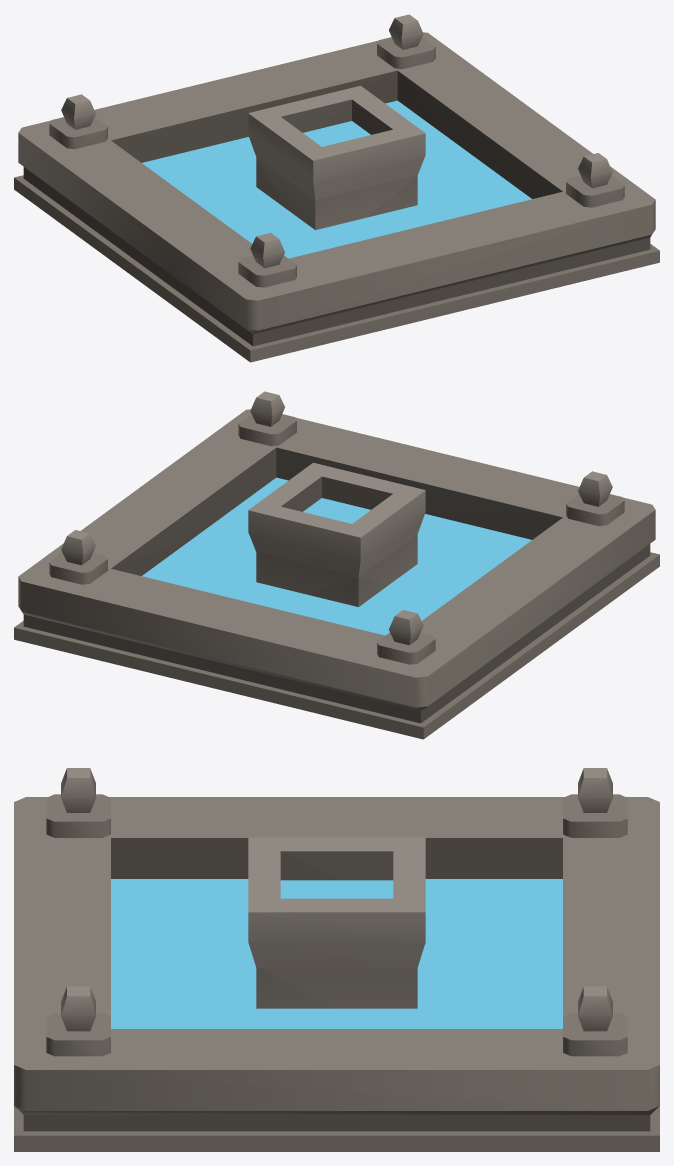
File: kenney_town_fountain_square_detail.glb
The picture shows the model from 3 angles, top to bottom: view 1: azimuth 30°, elevation 25°; view 2: azimuth 150°, elevation 25°; view 3: azimuth 270°, elevation 25°; orthographic projection. The views are drawn at different scales.
Visible parts, largest first — view 1: stone, object 2; view 2: stone, object 2; view 3: stone, object 2.
Part boxes in pixels (x1,y1,x2,y2): stone: (14, 14, 659, 362); object 2: (142, 100, 531, 258); stone: (14, 391, 659, 739); object 2: (142, 477, 531, 635); stone: (14, 768, 659, 1151); object 2: (111, 879, 562, 1028).
Bounding box in the file's own units: 2 × 0.48 × 2.
